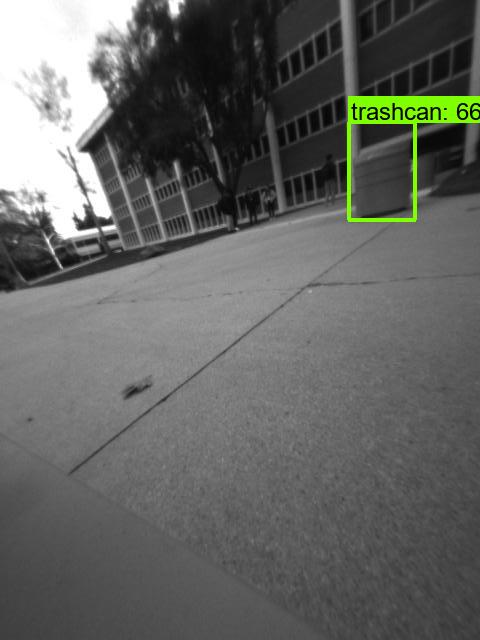trashcan: (352, 134, 415, 219)
